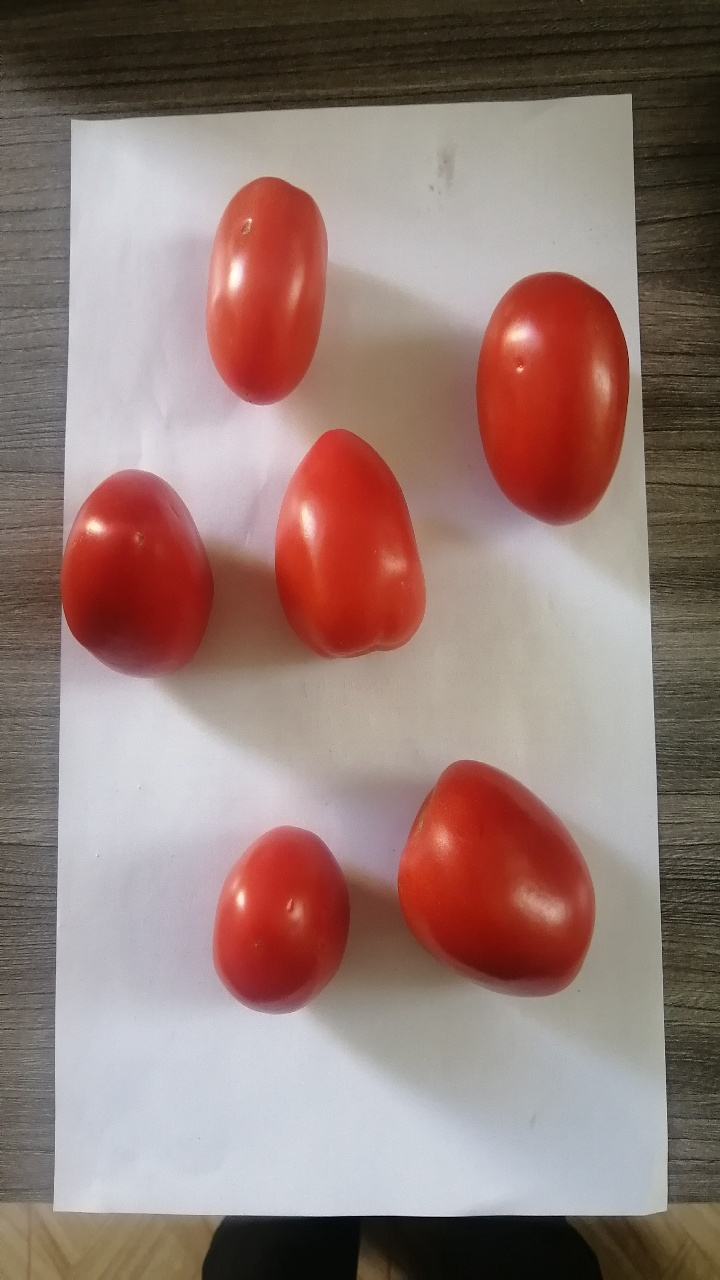tomateRojo: (375, 743, 603, 1020), (468, 259, 643, 534), (251, 419, 434, 669), (26, 462, 220, 680), (174, 166, 335, 409), (183, 817, 357, 1026)
